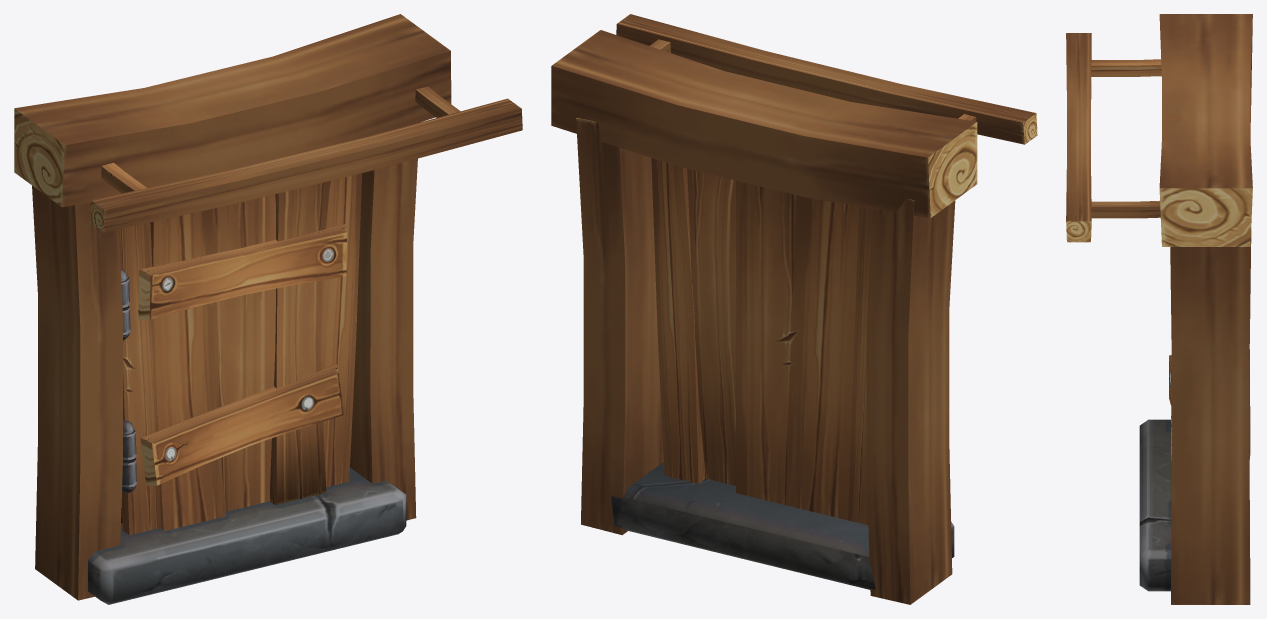
Rendered from DE_House_Mod_Part_26.fbx.
3 renders of one model, left to right at view 1: azimuth 30°, elevation 25°; view 2: azimuth 150°, elevation 25°; view 3: azimuth 270°, elevation 25°, orthographic. The views are drawn at different scales.
Parts seen in each view (by area): view 1: DE_House_Mod_Part_26; view 2: DE_House_Mod_Part_26; view 3: DE_House_Mod_Part_26.
Boxes of the visible parts, box(x1,y1,x2,y2) form: DE_House_Mod_Part_26: box(14, 14, 522, 604); DE_House_Mod_Part_26: box(551, 14, 1037, 604); DE_House_Mod_Part_26: box(1066, 14, 1252, 604).
Size of the model in its own units: 2.31 by 2.45 by 0.9624.
